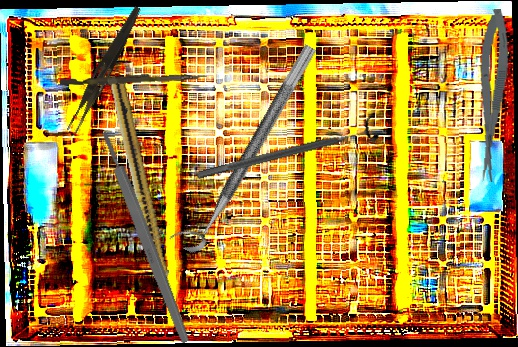Dressing Forceps: (65, 2, 144, 137)
Fixation Ring: (168, 33, 318, 258), (192, 113, 382, 189)
Handpiece: (104, 79, 177, 307)
Micro Scissor: (469, 8, 514, 183)
Pusher: (59, 68, 208, 90)
Scalpel Handle: (98, 129, 193, 345)
